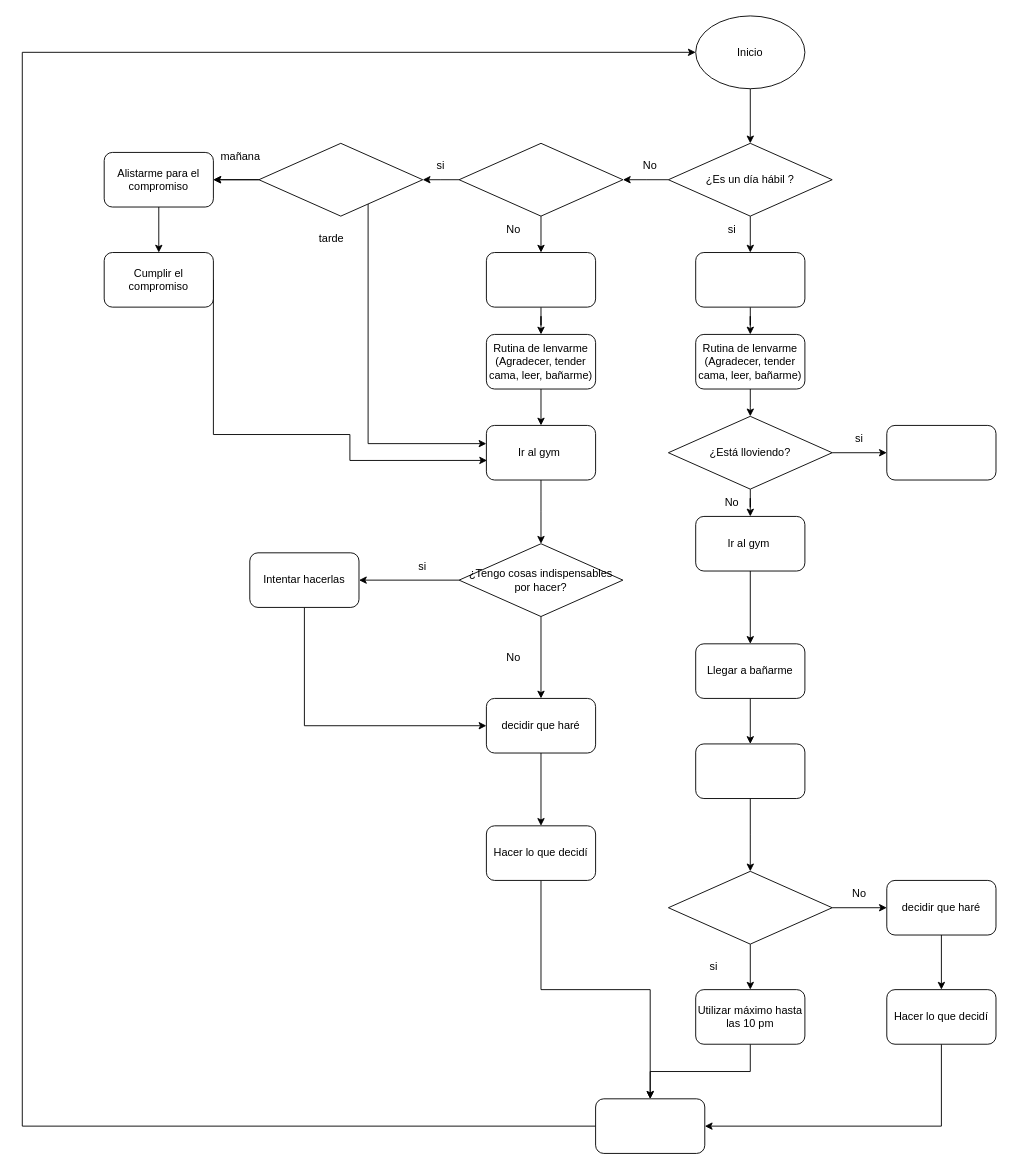
This 1012x1169 diagram has some shape labels left out. Each missing label, with the centre of its shape:
acostarme a dormir: point 650,1125
Conectarme antes de las 9am para el boot camp: point 750,771
Hacer ejercicio casero: point 941,452
Levantarme a 5 am: point 750,279
Levantarme a la hora que quiera: point 540,279
¿Mañana o tarde?: point 340,179
¿Quiero seguir en el pc?: point 749,907
¿Tengo algún compromiso?: point 540,179
